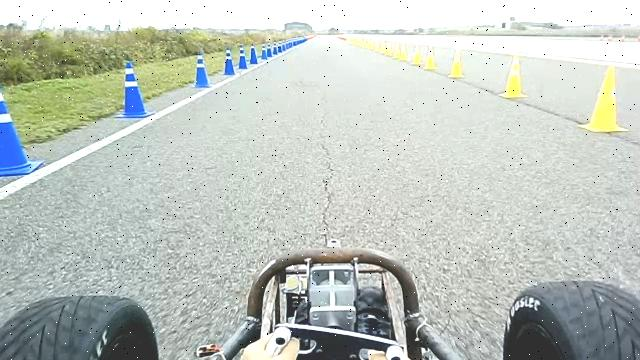blue cone: (114, 61, 155, 118), (192, 50, 212, 88), (221, 47, 237, 76), (238, 47, 248, 70), (248, 43, 258, 64), (261, 44, 268, 60), (266, 43, 273, 58)
yellow cone: (577, 65, 629, 132), (498, 53, 528, 99), (447, 47, 465, 78), (423, 46, 436, 70), (410, 44, 422, 65), (398, 43, 408, 61), (392, 42, 401, 59), (378, 40, 386, 54), (384, 42, 392, 56)
